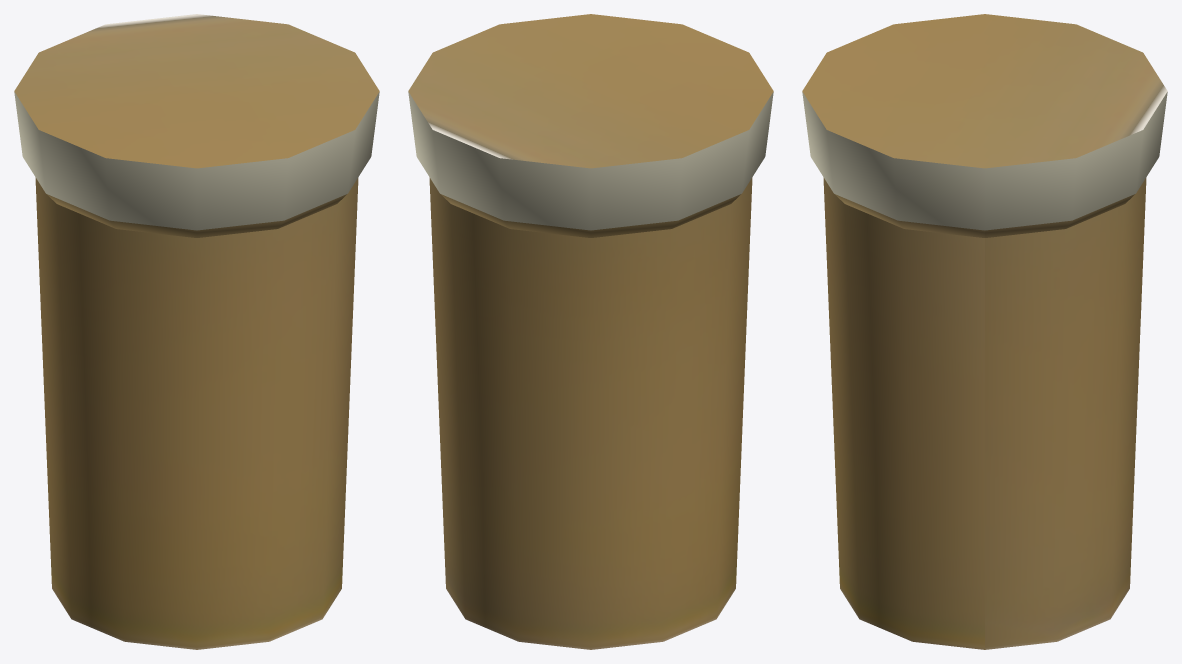
File: SM_drink_tea_03.fbx
3 renders of one model, left to right at view 1: azimuth 30°, elevation 25°; view 2: azimuth 150°, elevation 25°; view 3: azimuth 270°, elevation 25°, orthographic.
Visible parts, largest first — view 1: Cylinder059; view 2: Cylinder059; view 3: Cylinder059.
Part boxes in pixels (left/top/right/bottom): Cylinder059: left=14, top=14, right=379, bottom=649; Cylinder059: left=408, top=14, right=773, bottom=649; Cylinder059: left=802, top=14, right=1167, bottom=649.
Size of the model in its own units: 10.24 by 15.37 by 10.24.
